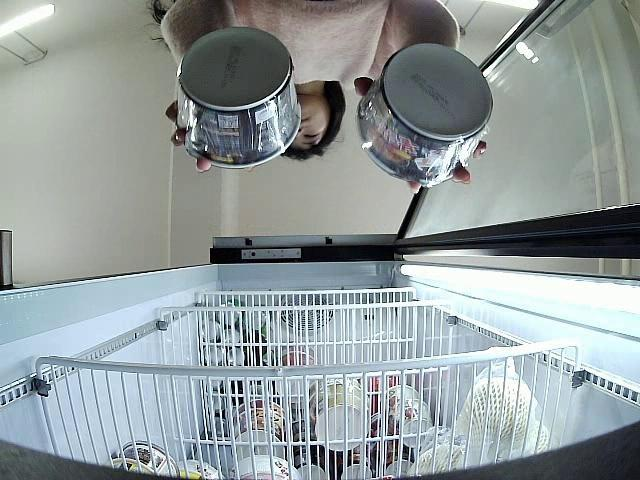07_buldak_L: (358, 42, 493, 186), (175, 27, 302, 167)
